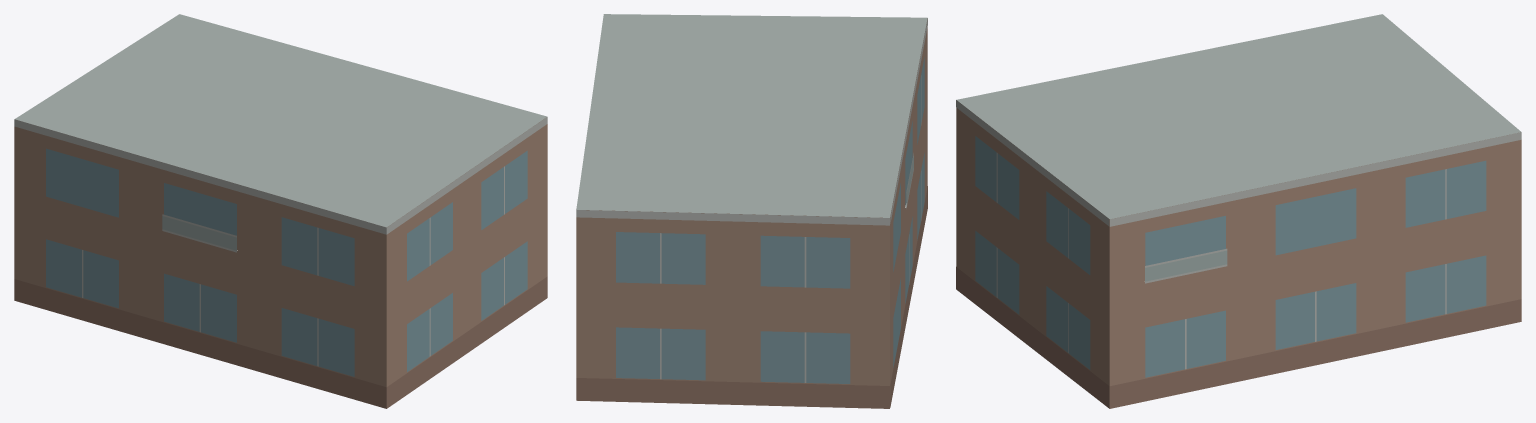
File: survey-upis-32688389.glb
3 views of the same model, side by side, from view 1: azimuth 30°, elevation 25°; view 2: azimuth 150°, elevation 25°; view 3: azimuth 270°, elevation 25° (orthographic). The views are drawn at different scales.
Parts seen in each view (by area): view 1: survey-upis-32688389.tmp; view 2: survey-upis-32688389.tmp; view 3: survey-upis-32688389.tmp.
Boxes of the visible parts, x1=… form: survey-upis-32688389.tmp: x1=14, y1=14, x2=547, y2=408; survey-upis-32688389.tmp: x1=576, y1=14, x2=927, y2=408; survey-upis-32688389.tmp: x1=956, y1=14, x2=1521, y2=408.
Size of the model in its own units: 14.18 by 6.1 by 16.5.
